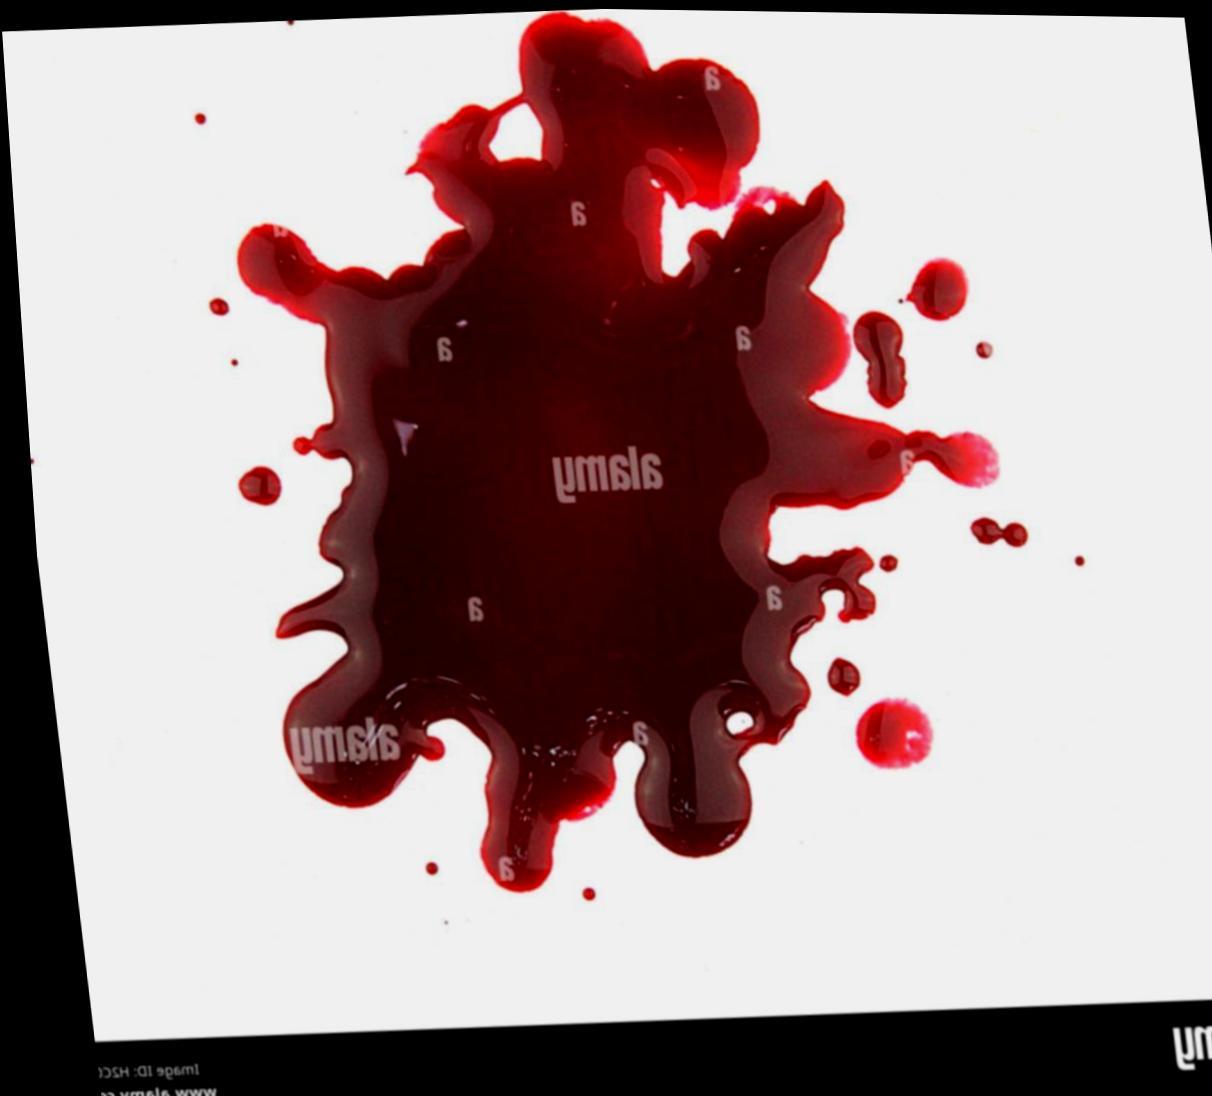Fire: (233, 7, 993, 890), (845, 693, 923, 766), (849, 307, 902, 405), (901, 253, 965, 317), (231, 465, 274, 505), (963, 514, 1021, 543), (817, 654, 852, 693)
